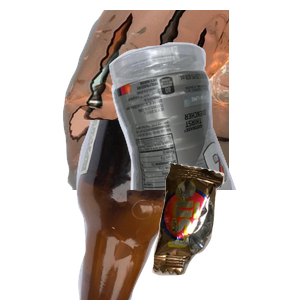glass: (60, 120, 300, 300)
metal: (60, 10, 300, 190)
plastic: (106, 40, 300, 220)
trash: (150, 160, 300, 300)
